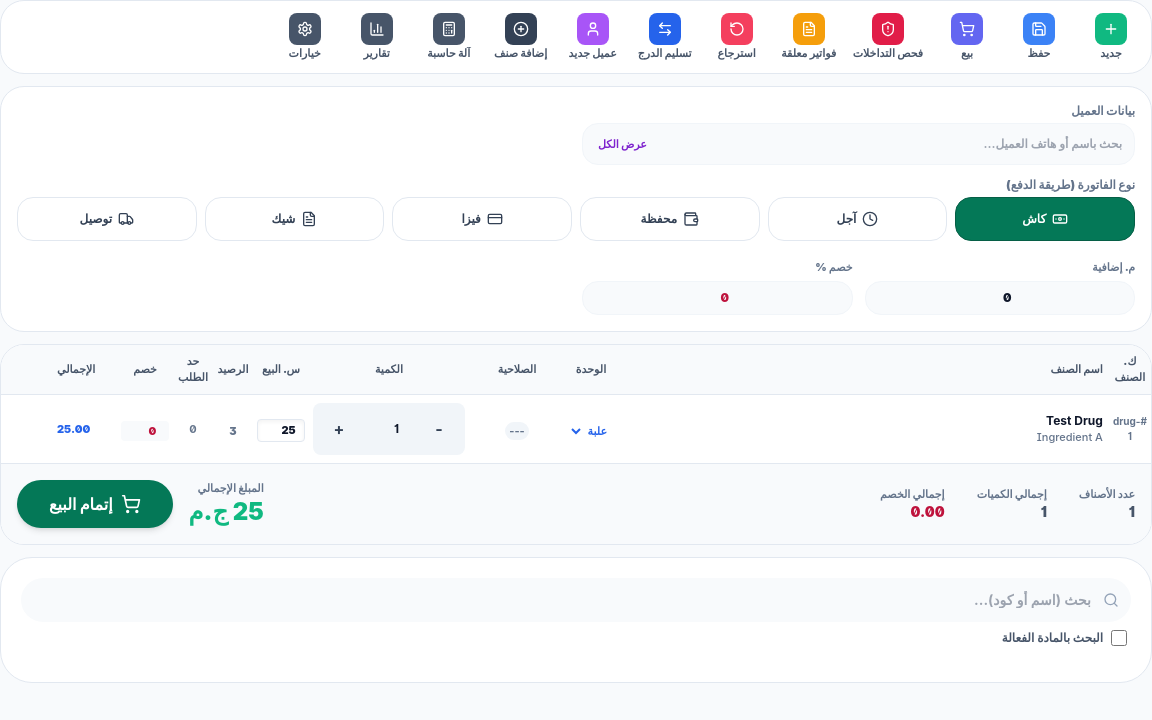
it: coverage-gap: POS keyboard shortcuts › Delete removes a selected cart row unless an input currently owns focus
Click the text "Test Drug": (576, 429) [1,394,1151,463]
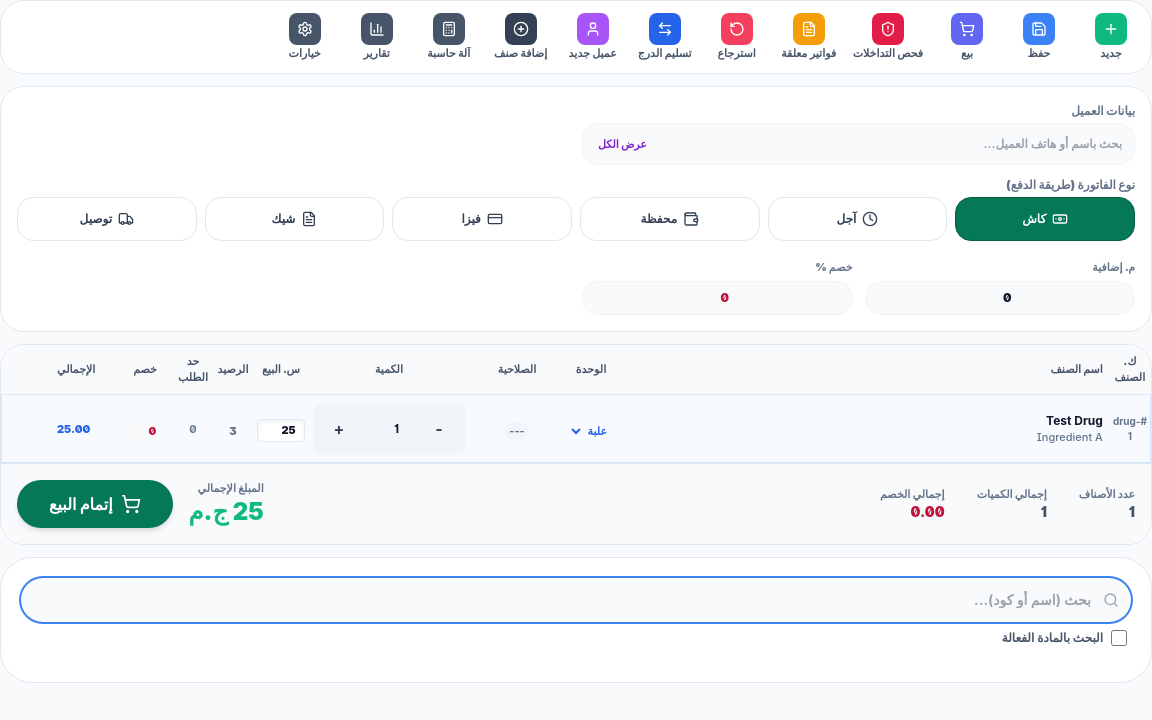
Press Delete
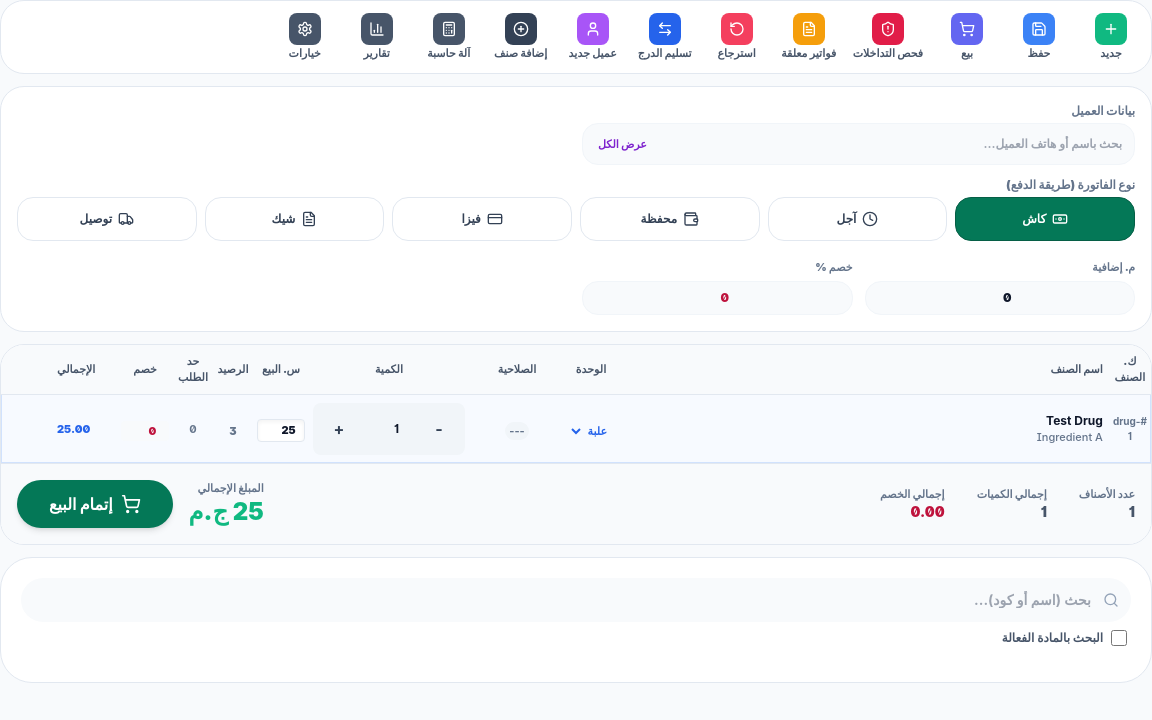
Expected: the text "Test Drug" is shown, [1046,412,1103,428]
Press Delete
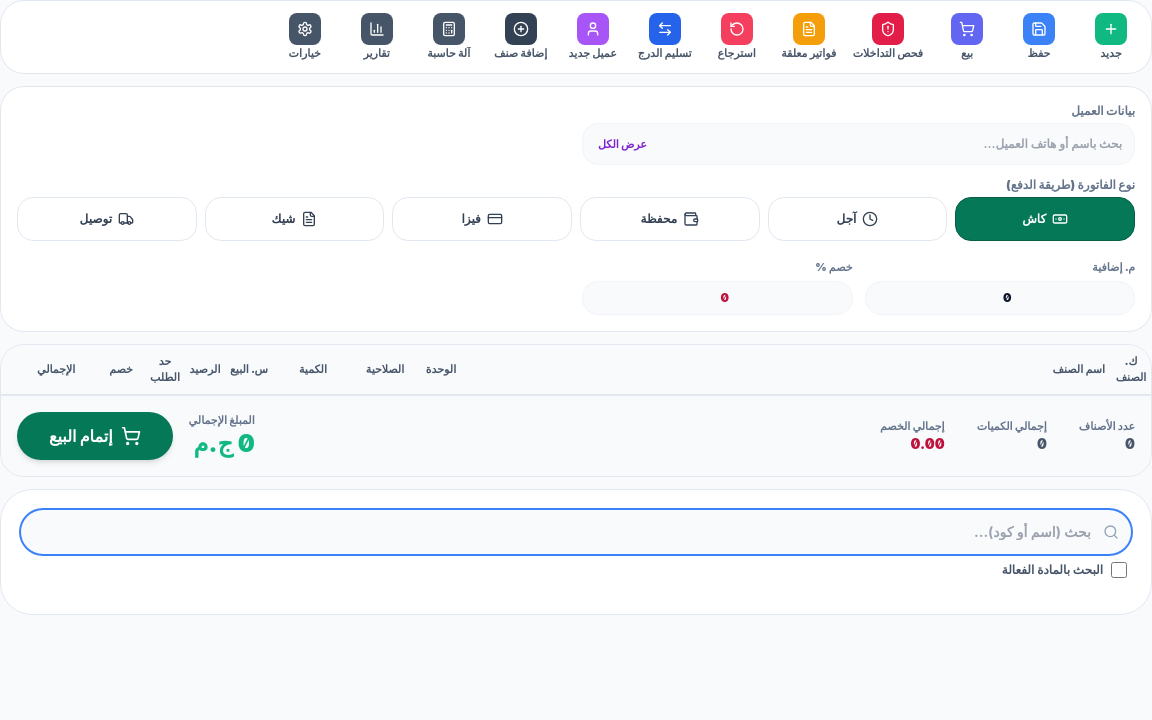
Expected: the text "Test Drug" is gone
